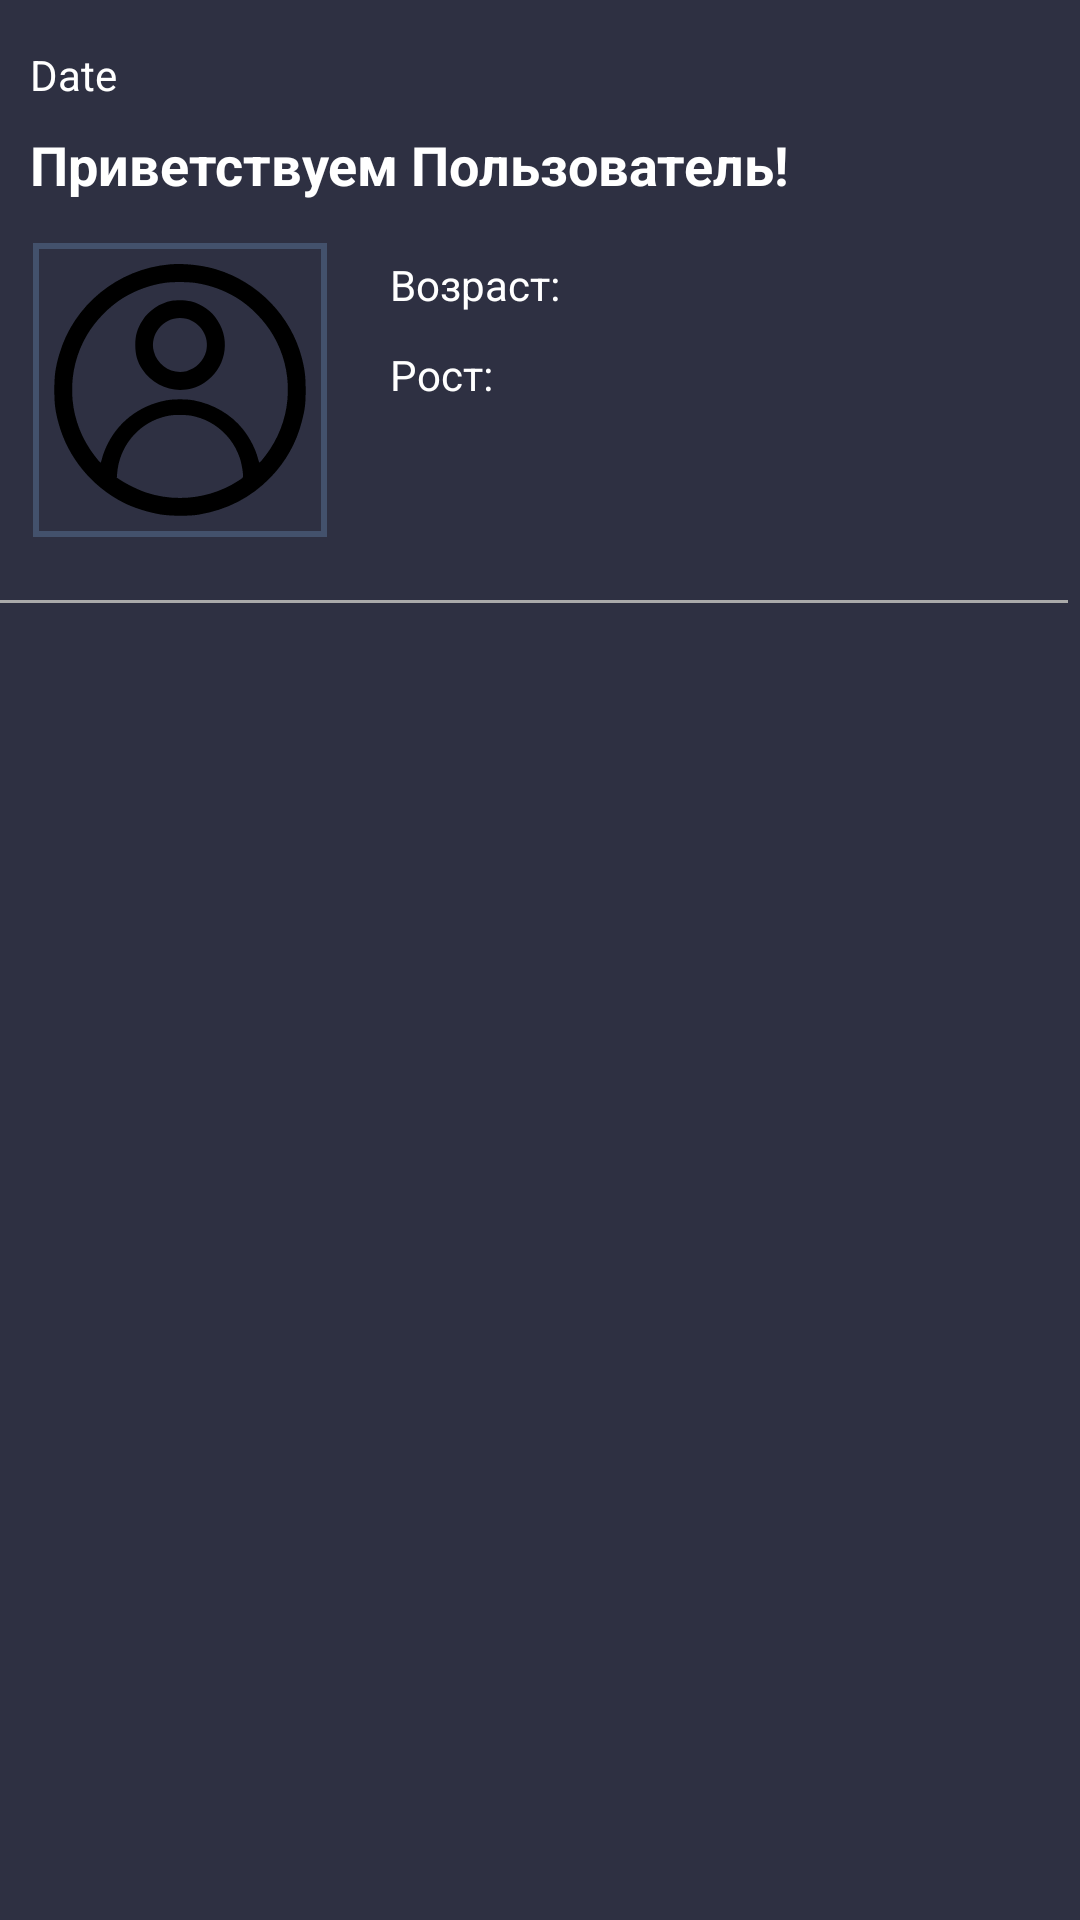

Named icons in this screenshot (1080×1920) and their bounding boxes, [left=x1, top=y1, right=x2, bottom=y2]:
user profile: [left=33, top=243, right=327, bottom=537]
